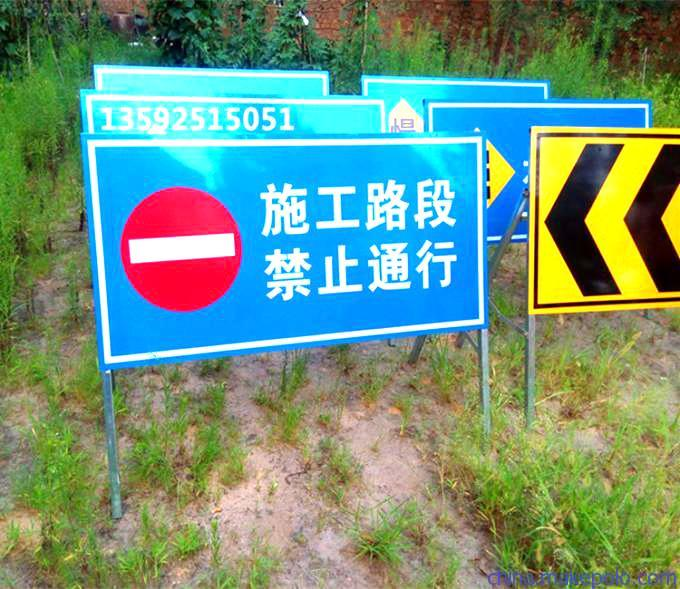sign: (88, 134, 488, 331)
